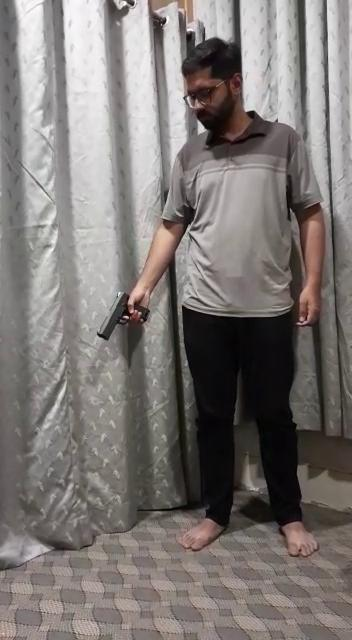criminal: (93, 33, 329, 561)
weapon: (94, 287, 156, 343)
